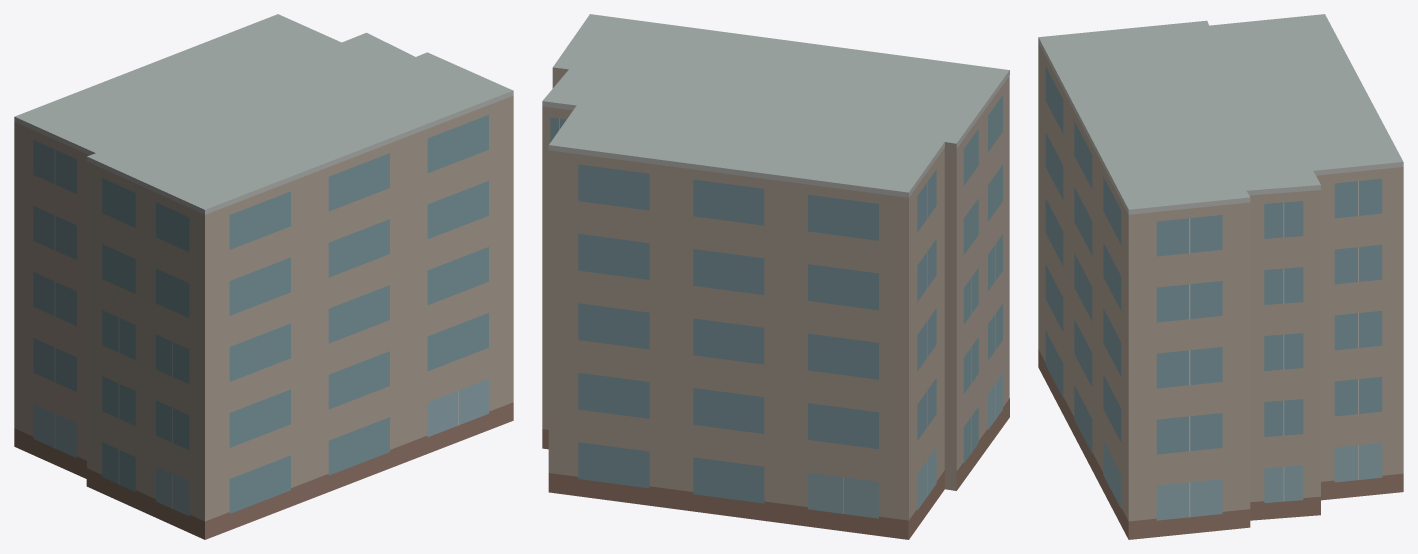
File: survey-upis-32469143.glb
3 views of the same model, side by side, from view 1: azimuth 30°, elevation 25°; view 2: azimuth 150°, elevation 25°; view 3: azimuth 270°, elevation 25° (orthographic). The views are drawn at different scales.
Visible parts, largest first — view 1: survey-upis-32469143.tmp; view 2: survey-upis-32469143.tmp; view 3: survey-upis-32469143.tmp.
Part boxes in pixels (x1,y1,x2,y2): survey-upis-32469143.tmp: (14,14,513,539); survey-upis-32469143.tmp: (542,14,1009,539); survey-upis-32469143.tmp: (1038,14,1403,539).
Bounding box in the file's own units: 20.48 × 16.1 × 16.15.
